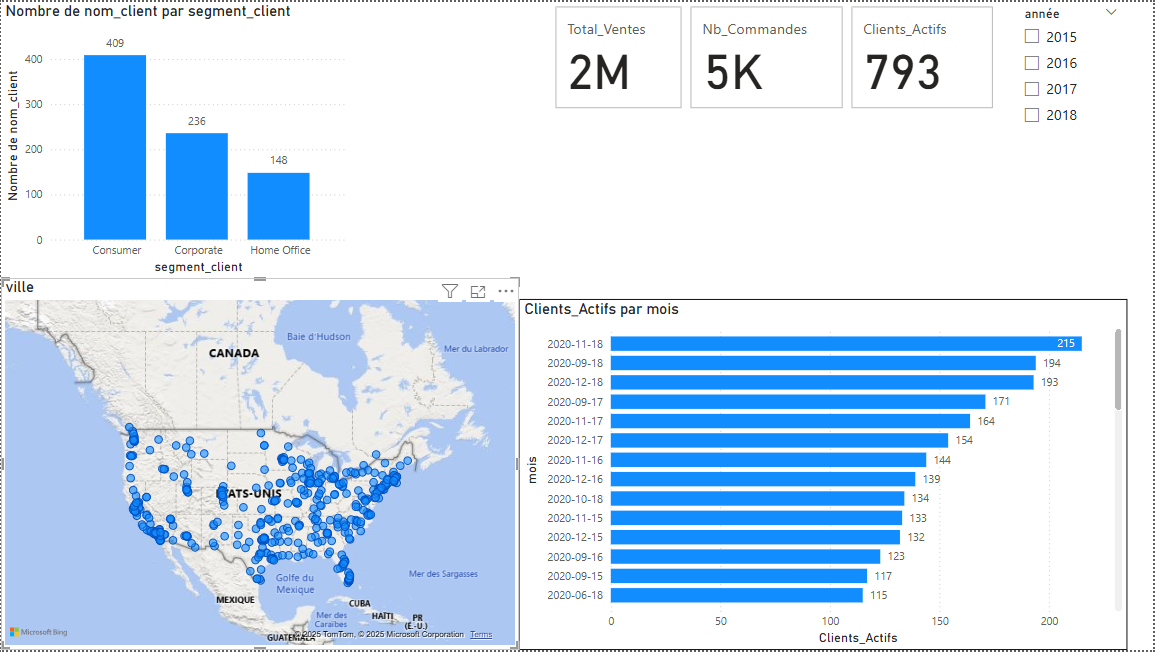

The page's visual inventory and layout, read from the dashboard file:
{"tool":"powerbi","page":{"name":"Analyse client","canvas":[1280,720],"ordinal":1},"visuals":[{"type":"cardVisual","fields":{"Data":["Faits_Ventes.Clients_Actifs"]},"box":[940,0,167,123],"z":0},{"type":"clusteredColumnChart","fields":{"Y":["CountNonNull(Dim_Client.nom_client)"],"Category":["Dim_Client.segment_client"]},"box":[0,0,388,307],"z":1},{"type":"clusteredBarChart","fields":{"Category":["Dim_Temps.mois"],"Y":["Faits_Ventes.Clients_Actifs"]},"box":[576,330,676,390],"z":2},{"type":"map","fields":{"Category":["Dim_Lieu.ville"]},"box":[0,307,576,413],"z":3},{"type":"slicer","fields":{"Values":["Dim_Temps.année"]},"box":[1124,0,128,150],"z":4},{"type":"cardVisual","fields":{"Data":["Faits_Ventes.Nb_Commandes"]},"box":[761,0,179,123],"z":5},{"type":"cardVisual","fields":{"Data":["Faits_Ventes.Total_Ventes"]},"box":[611,0,150,123],"z":6}]}

Visuals, with their boxes in screenshot pixels (x1, y1, x2, y2), scaled from the page's 1280x720 canvas onto the 1155x652 screenshot:
cardVisual - Faits_Ventes.Clients_Actifs: 848,0,999,111
clusteredColumnChart - CountNonNull(Dim_Client.nom_client) x Dim_Client.segment_client: 0,0,350,278
clusteredBarChart - Dim_Temps.mois x Faits_Ventes.Clients_Actifs: 520,299,1130,651
map - Dim_Lieu.ville: 0,278,520,651
slicer - Dim_Temps.année: 1014,0,1130,136
cardVisual - Faits_Ventes.Nb_Commandes: 687,0,848,111
cardVisual - Faits_Ventes.Total_Ventes: 551,0,687,111
